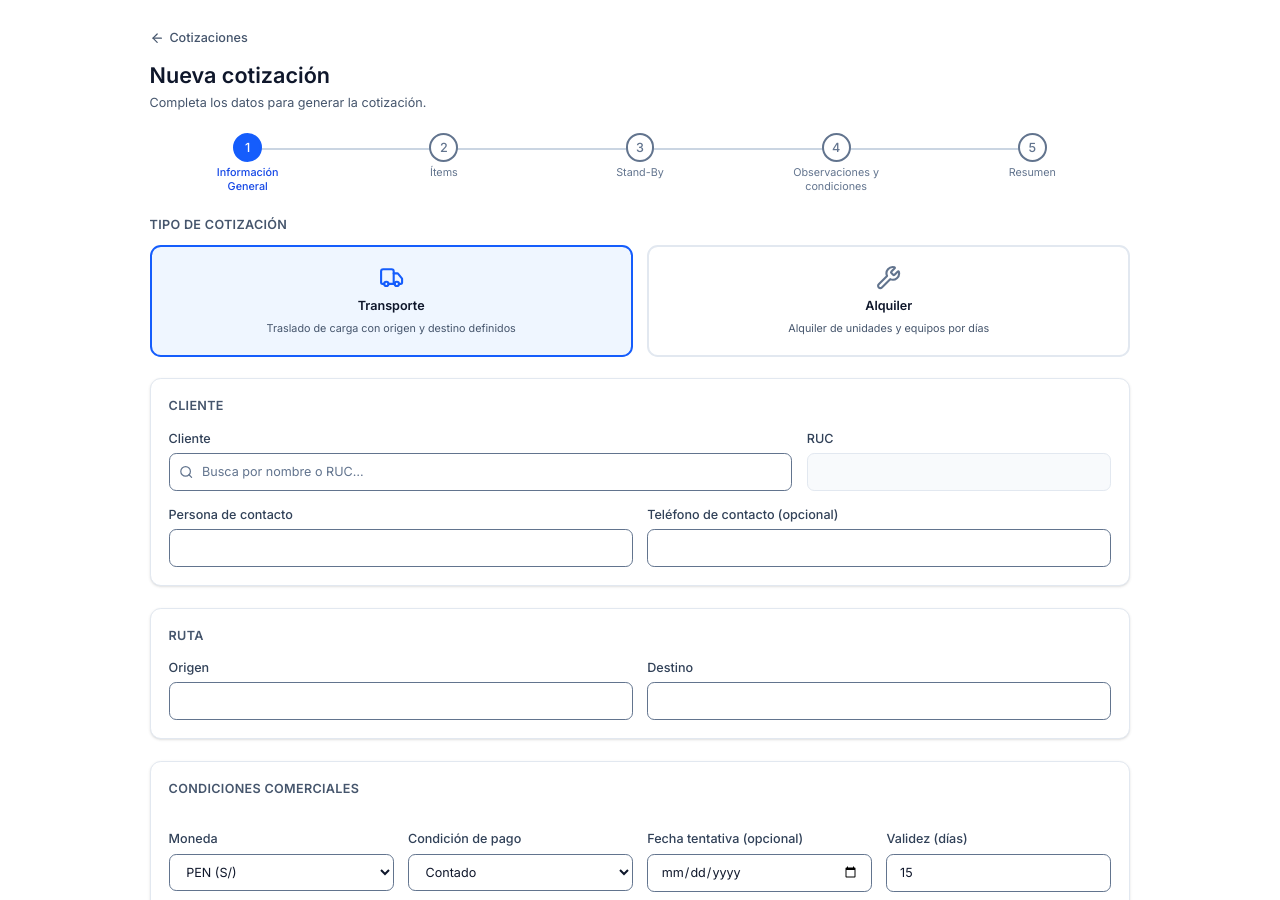
Test: CotizacionWizardPage › el botón "Nuevo cliente" abre el modal
In the dropdown labelled "Cliente": (480, 472) [169,453,792,491], type "nuevo"
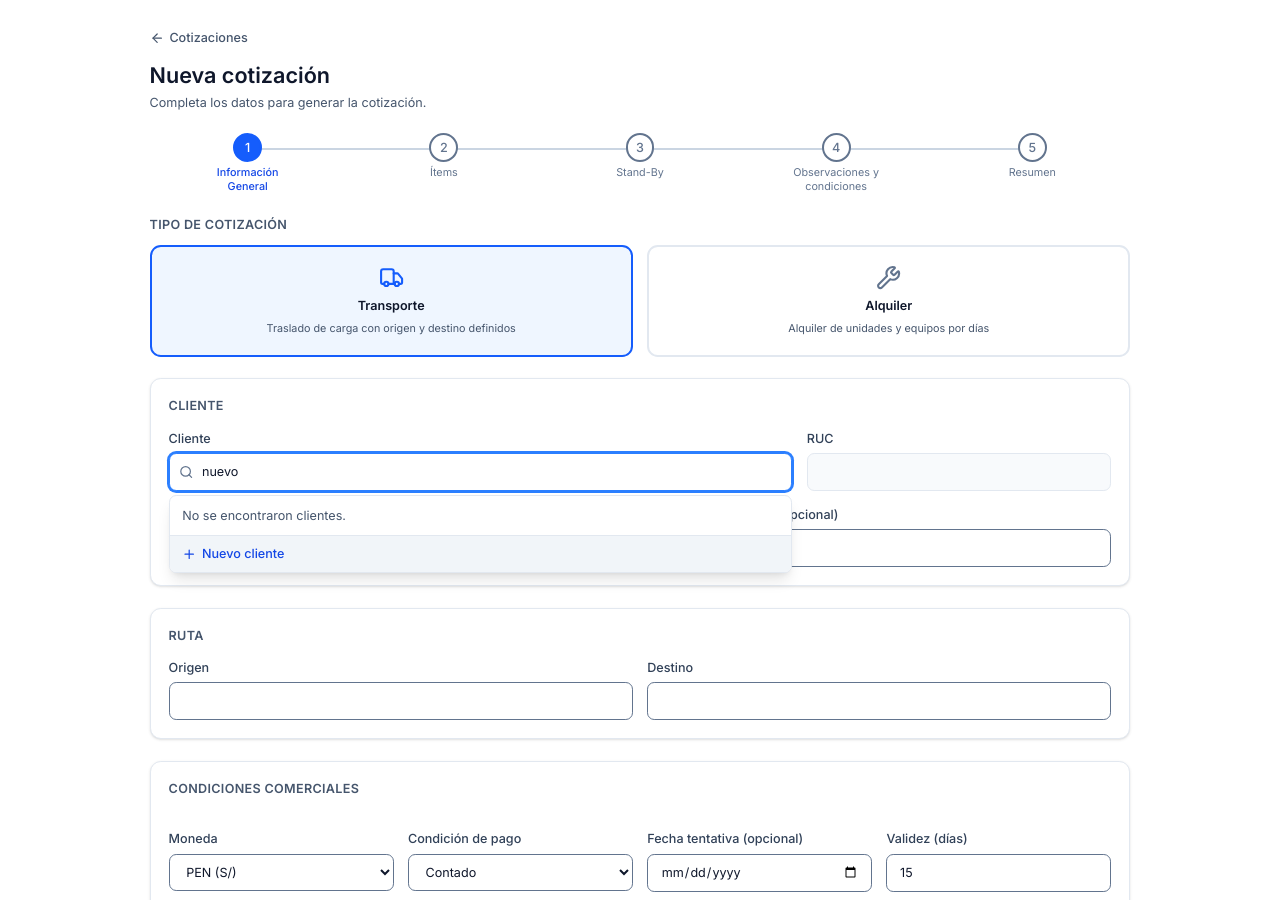
Click the button "Nuevo cliente": (243, 554) [170,535,791,572]
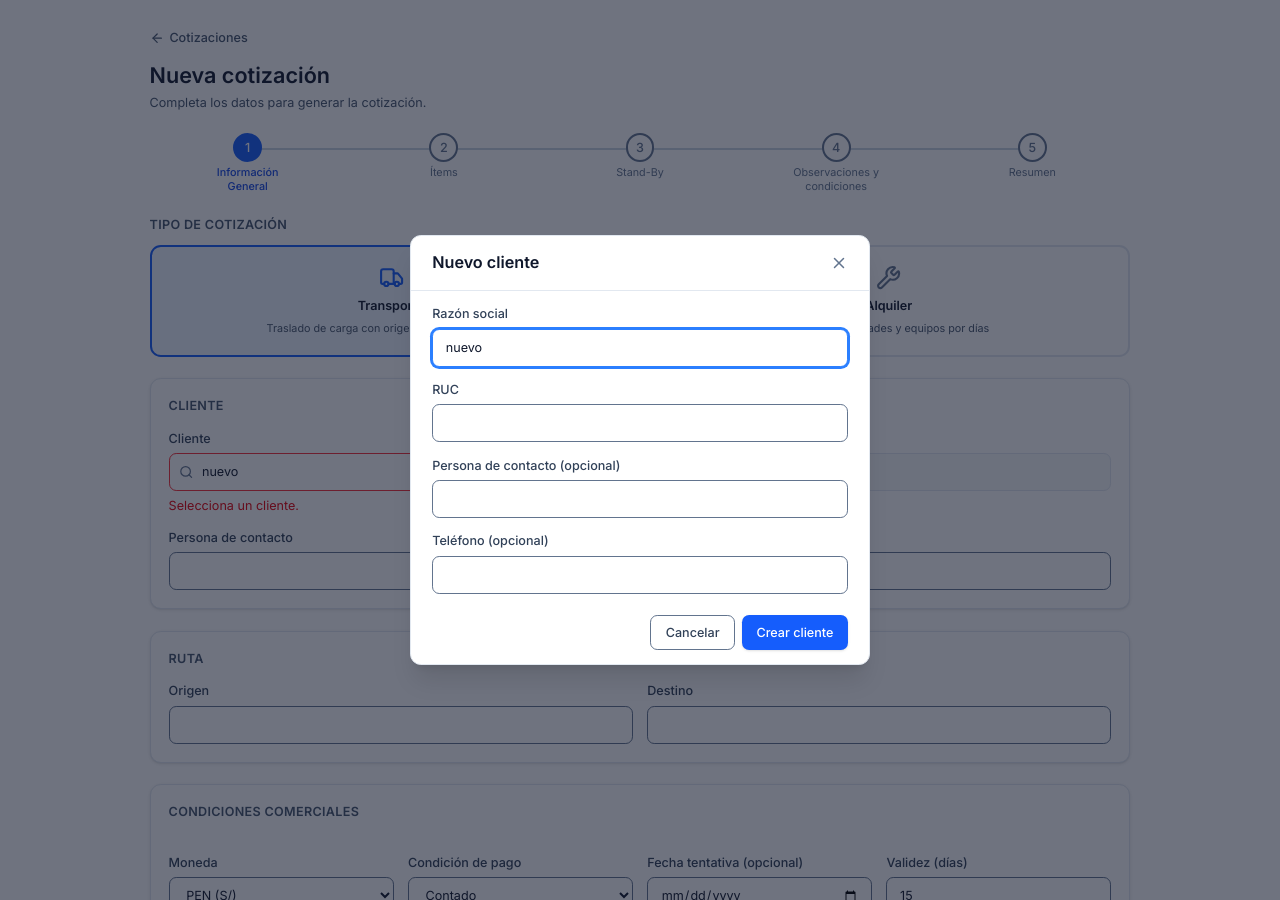
Now the dialog is shown, box [410,235,870,665]
